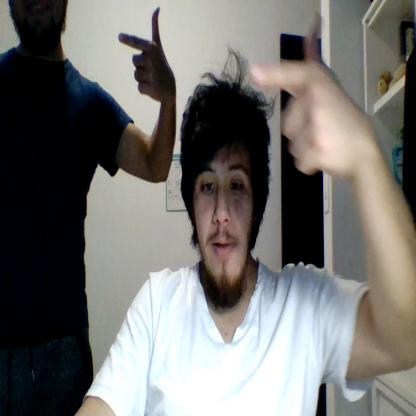G: (250, 12, 351, 176), (118, 7, 173, 100)
